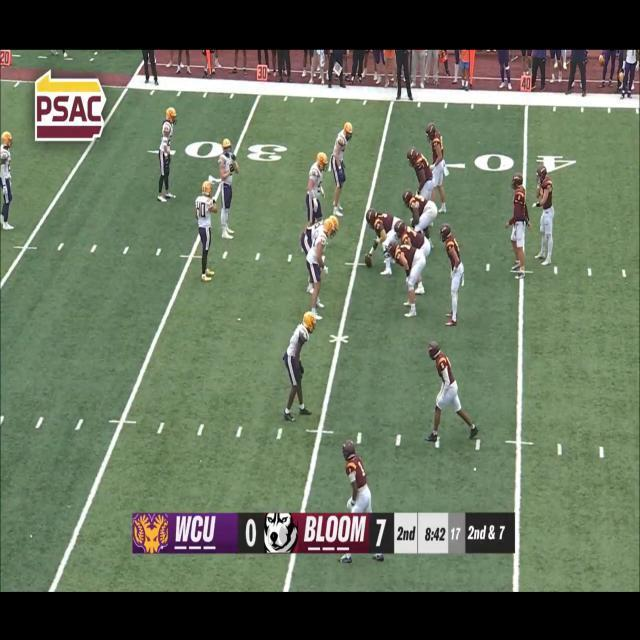football: (363, 252, 375, 268)
